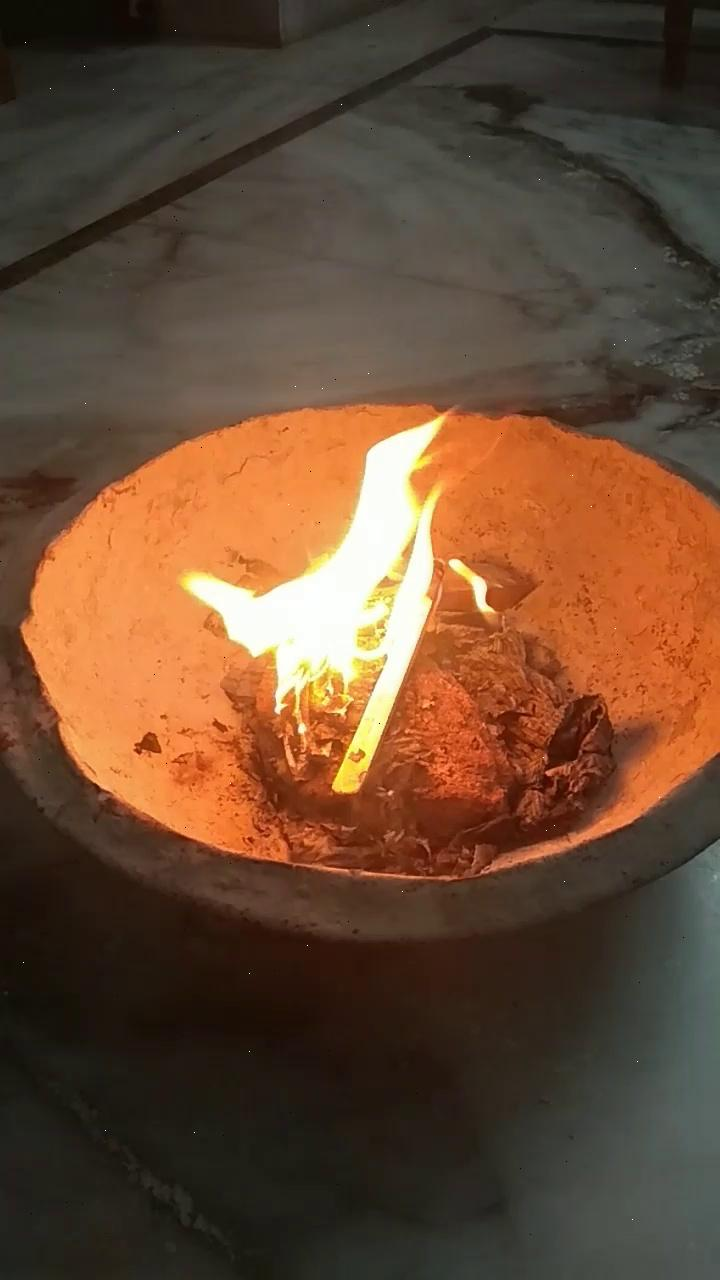fire: (201, 398, 471, 761)
